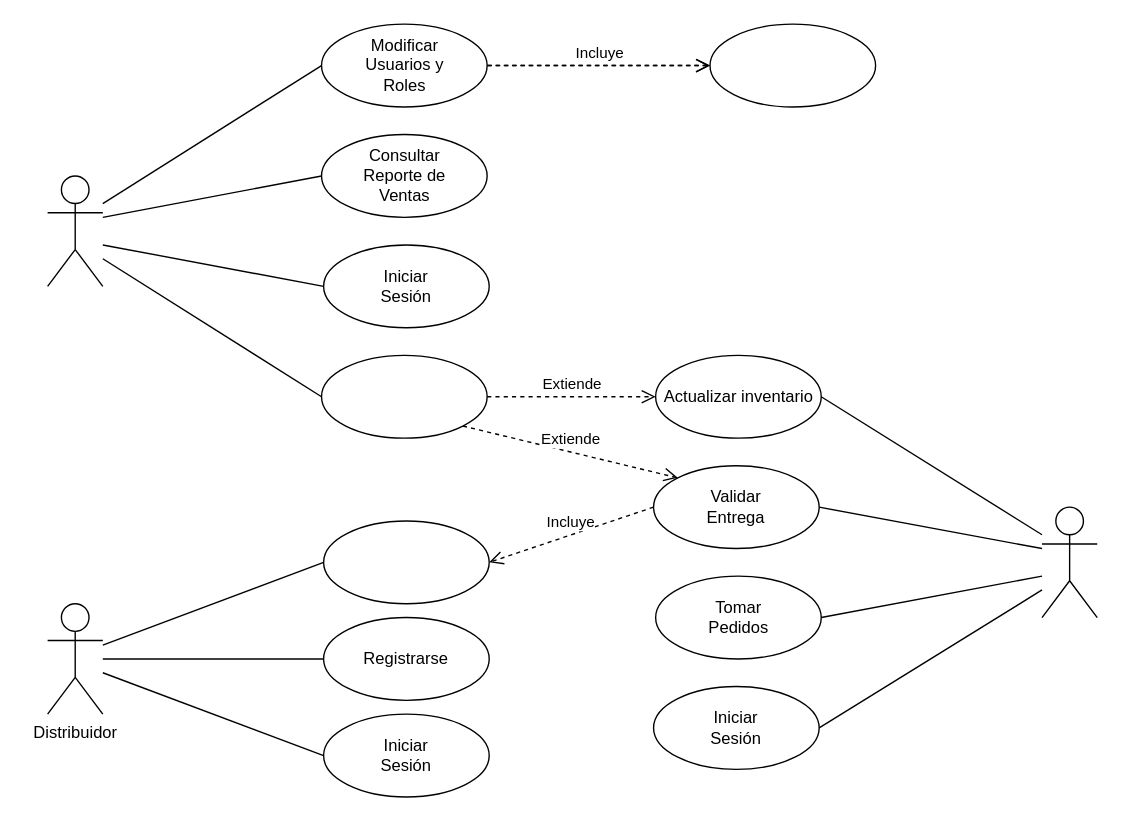
The diagram is 1132 pixels wide and 821 high, and some of its shapes have lost their labels. The centre of each missing label's shape, as x and y in pixels:
"Autorizar Acciones" goes at (403,396).
"Creación y Eliminación" goes at (792,65).
"Empleado" goes at (1069,562).
"Personal Administrativo" goes at (74,230).
"Registrar Envío de Productos" goes at (405,562).
